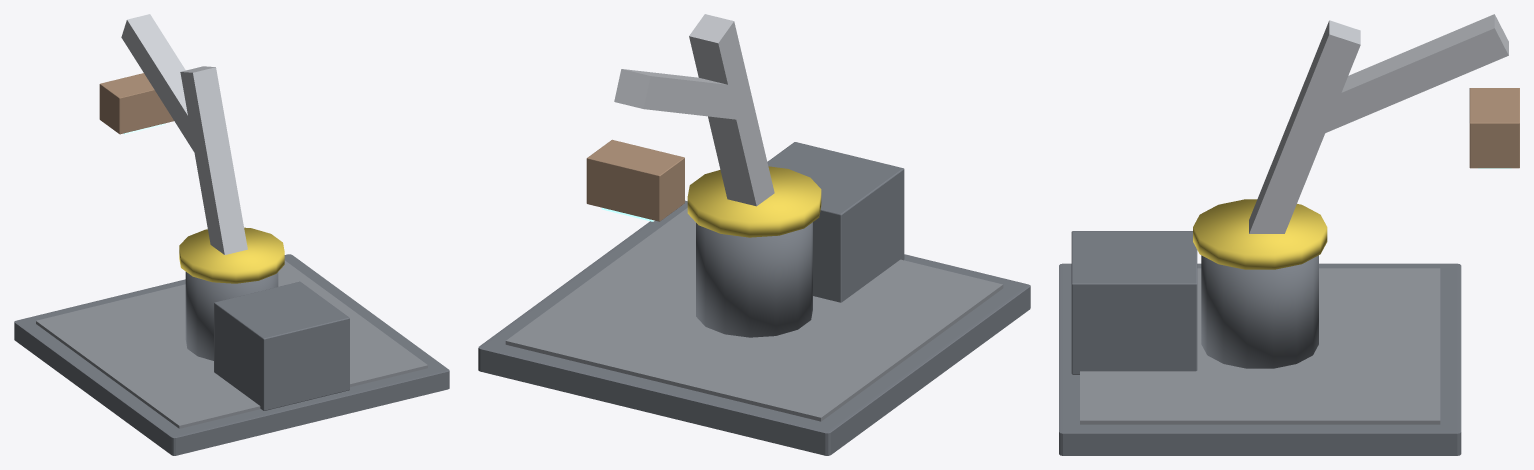
File: inserter.glb
The picture shows the model from 3 angles, left to right: view 1: azimuth 30°, elevation 25°; view 2: azimuth 150°, elevation 25°; view 3: azimuth 270°, elevation 25°; orthographic projection. The views are drawn at different scales.
Visible parts, largest first — view 1: base_grate, base, counter, arm1, pivot_ring, arm2, pivot, hand; view 2: base_grate, base, counter, pivot, arm1, hand, pivot_ring, arm2; view 3: base_grate, base, counter, pivot, arm2, arm1, pivot_ring, hand.
Boxes of the visible parts, box(x1,y1,x2,y2) form: base_grate: box(36, 260, 427, 428); base: box(14, 254, 449, 455); counter: box(214, 281, 349, 410); arm1: box(180, 66, 247, 254); pivot_ring: box(179, 227, 284, 283); arm2: box(121, 14, 194, 151); pivot: box(185, 272, 278, 360); hand: box(99, 73, 173, 134); base_grate: box(505, 208, 1003, 421); base: box(478, 200, 1030, 455); counter: box(767, 142, 904, 302); pivot: box(696, 222, 812, 337); arm1: box(689, 14, 774, 206); hand: box(586, 139, 684, 221); pivot_ring: box(687, 166, 821, 237); arm2: box(614, 69, 746, 119); base_grate: box(1080, 268, 1440, 424); base: box(1059, 263, 1461, 455); counter: box(1071, 231, 1197, 374); pivot: box(1201, 255, 1318, 368); arm2: box(1305, 14, 1508, 135); arm1: box(1249, 20, 1360, 233); pivot_ring: box(1193, 199, 1327, 269); hand: box(1469, 88, 1519, 168).
Size of the model in its own units: 0.96 by 0.9219 by 1.1.
